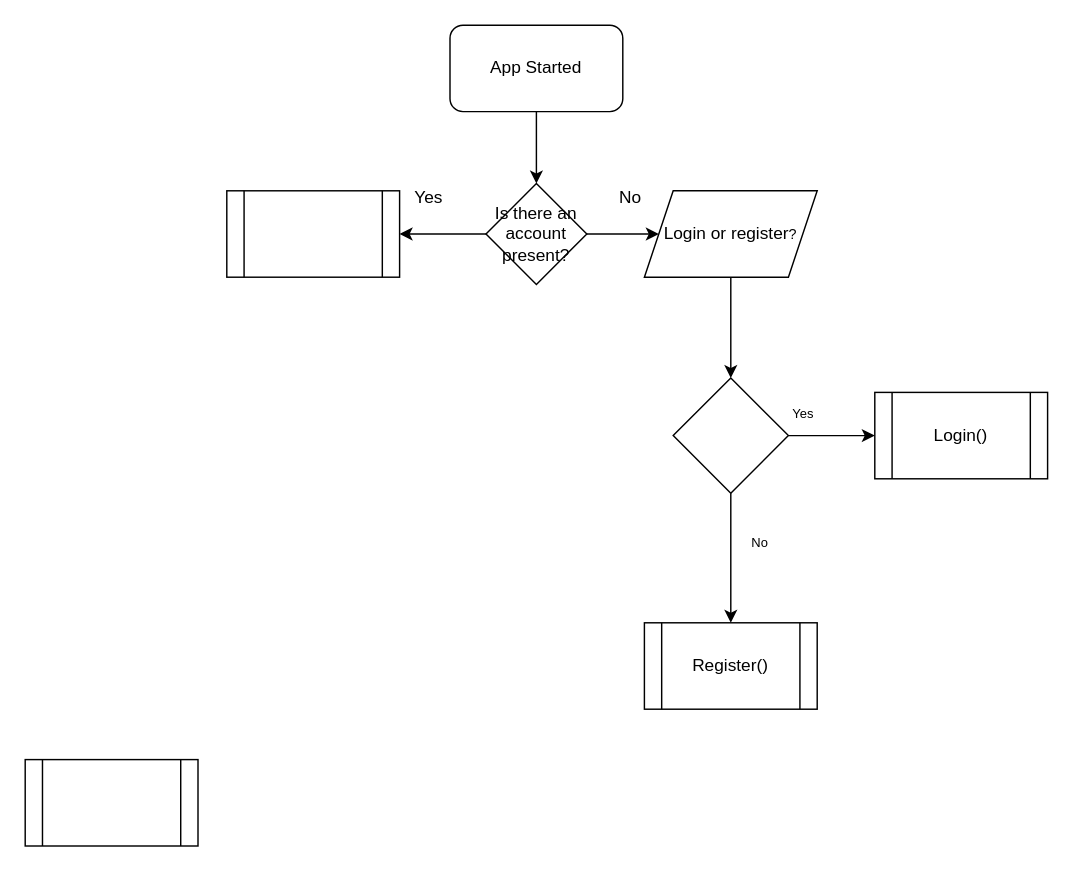
Some shapes in this 1073 by 871 pixel diagram are drawn without their labels. Here are the shapes that lost their labels. From the top down, the centre of each, then its label:
At (312,233): "RecomendedSchedule()".
At (730,435): "Login?".
